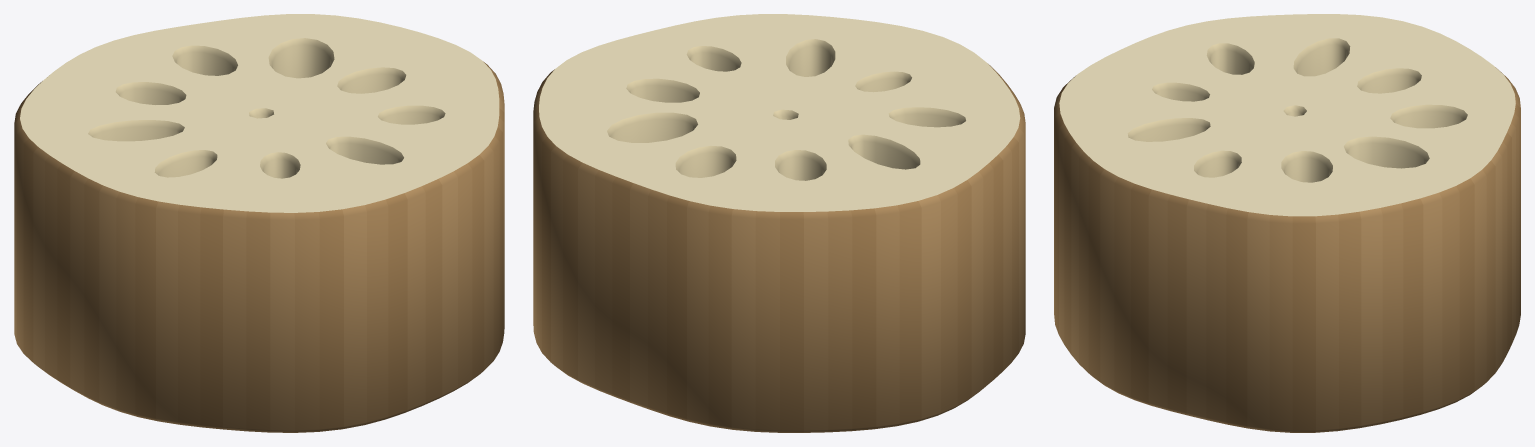
3 renders of one model, left to right at view 1: azimuth 30°, elevation 25°; view 2: azimuth 150°, elevation 25°; view 3: azimuth 270°, elevation 25°, orthographic.
Visible parts, largest first — view 1: NEW316_Lotus_root_LOD1; view 2: NEW316_Lotus_root_LOD1; view 3: NEW316_Lotus_root_LOD1.
Part boxes in pixels (x1,y1,x2,y2): NEW316_Lotus_root_LOD1: [14, 14, 504, 432]; NEW316_Lotus_root_LOD1: [533, 14, 1025, 432]; NEW316_Lotus_root_LOD1: [1054, 14, 1520, 432].
Bounding box in the file's own units: 0.0902 × 0.044 × 0.086.
